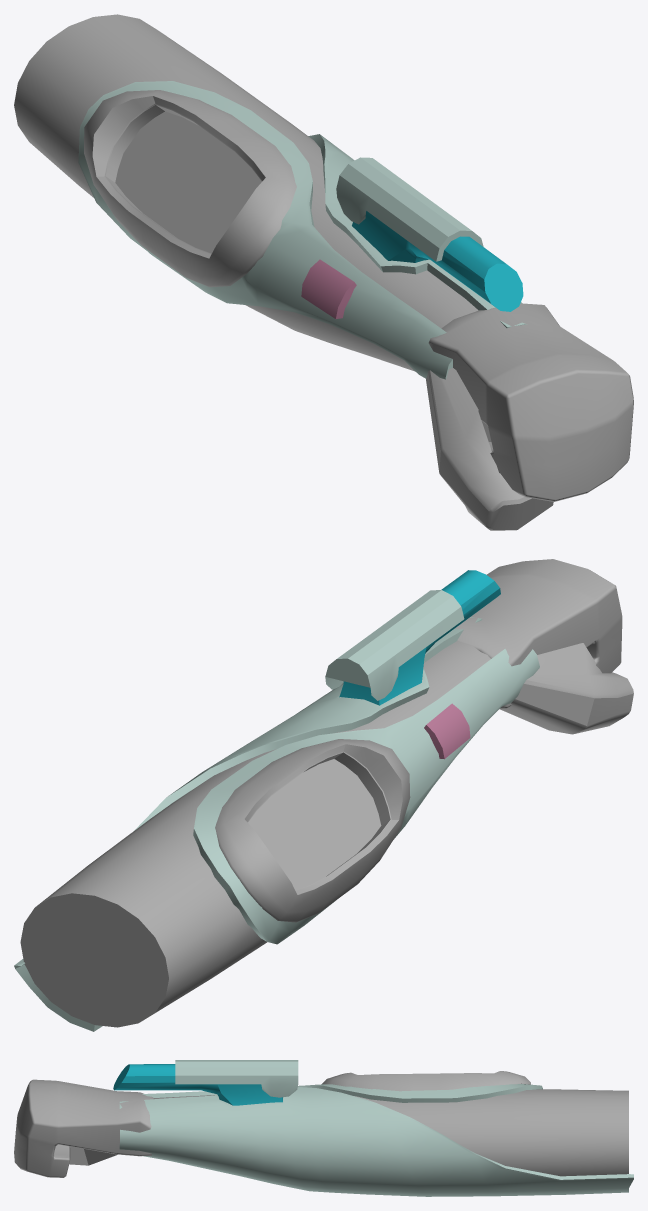
File: M_ArmTest.fbx
The picture shows the model from 3 angles, top to bottom: view 1: azimuth 30°, elevation 25°; view 2: azimuth 150°, elevation 25°; view 3: azimuth 270°, elevation 25°; orthographic projection. The views are drawn at different scales.
Parts seen in each view (by area): view 1: ARM_TEST; view 2: ARM_TEST; view 3: ARM_TEST.
Part boxes in pixels (left/top/right/bottom): ARM_TEST: left=14, top=14, right=633, bottom=530; ARM_TEST: left=14, top=559, right=633, bottom=1031; ARM_TEST: left=14, top=1060, right=633, bottom=1196.
Bounding box in the file's own units: 0.2825 × 0.2777 × 1.22.
